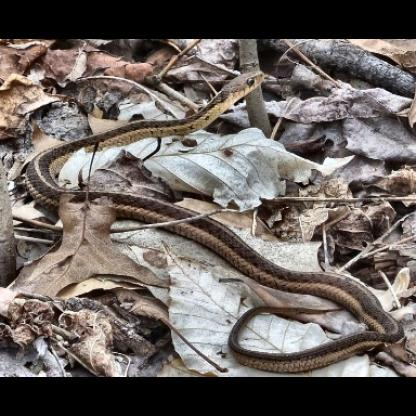Snake: (31, 65, 406, 372), (156, 72, 274, 135)
